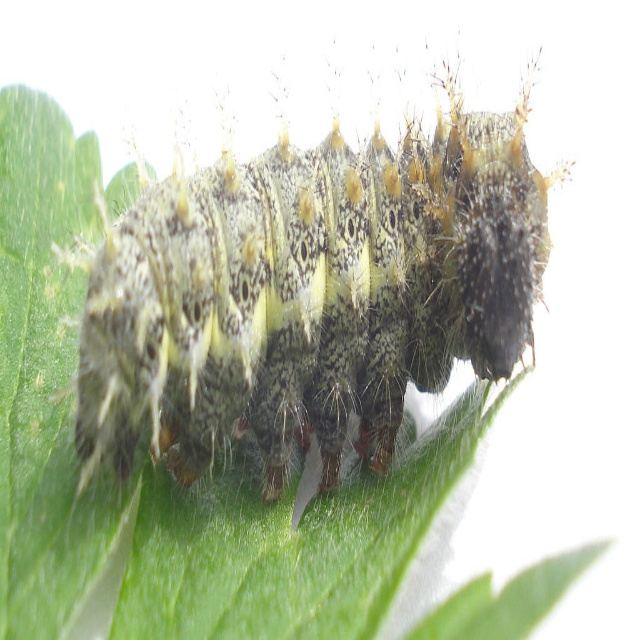Caterpillar: (47, 9, 573, 538)
